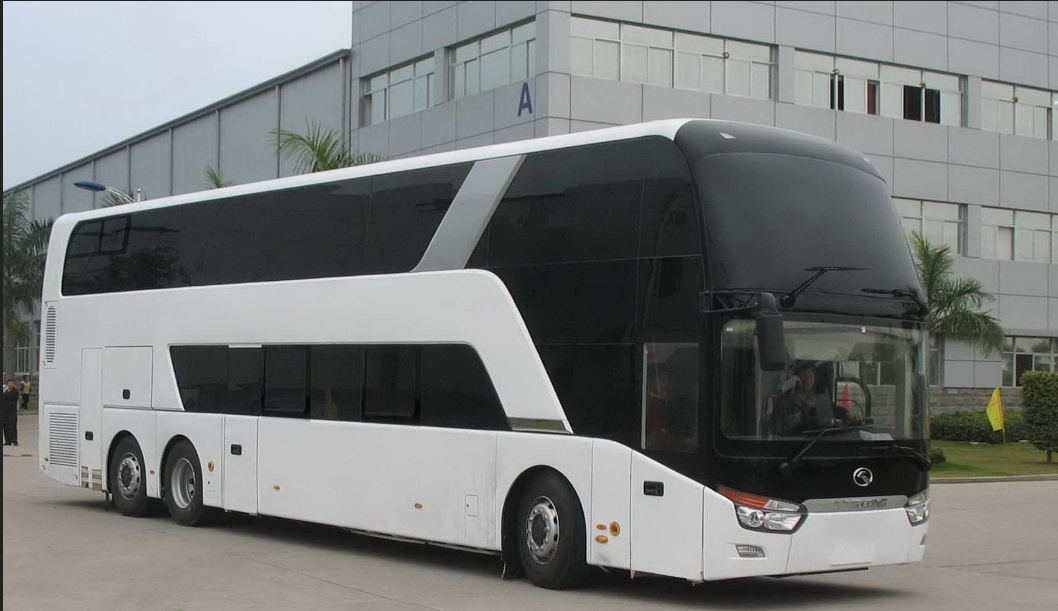bus: (44, 142, 966, 586)
